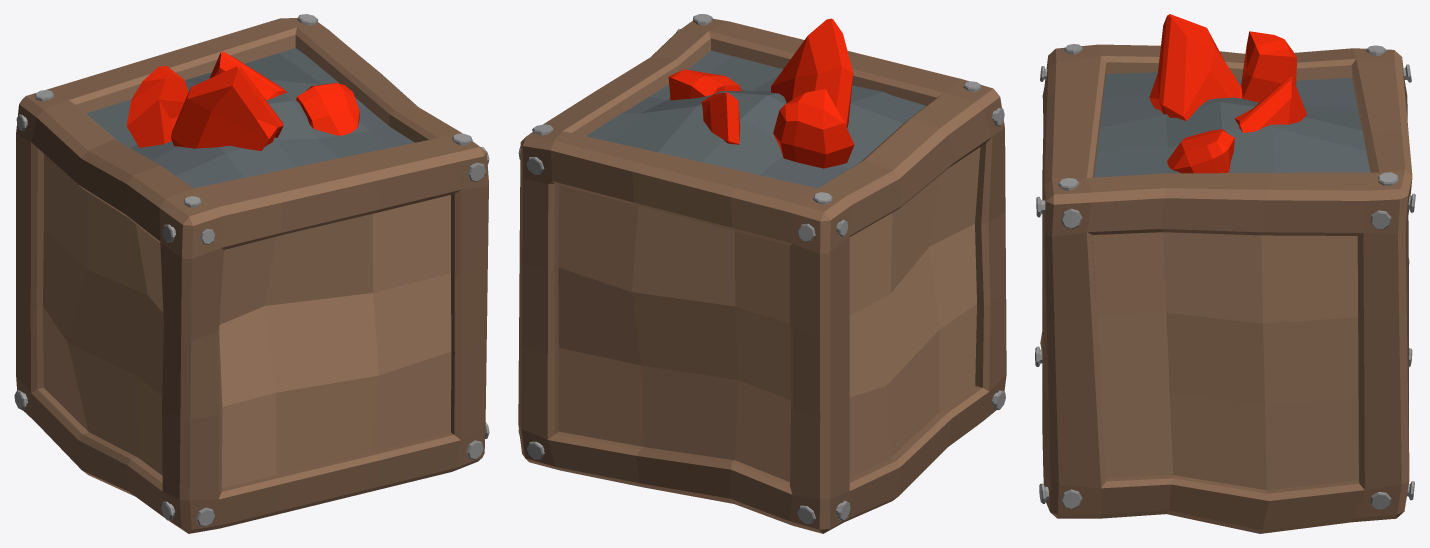
File: Crate_Small_Red.fbx
The picture shows the model from 3 angles, left to right: view 1: azimuth 30°, elevation 25°; view 2: azimuth 150°, elevation 25°; view 3: azimuth 270°, elevation 25°; orthographic projection. The views are drawn at different scales.
Parts seen in each view (by area): view 1: Crate_Small_Red, Red; view 2: Crate_Small_Red, Red; view 3: Crate_Small_Red, Red.
Part boxes in pixels (bbox=[...]): Crate_Small_Red: bbox=[14, 14, 489, 533]; Red: bbox=[127, 52, 359, 150]; Crate_Small_Red: bbox=[518, 14, 1006, 533]; Red: bbox=[668, 18, 854, 168]; Crate_Small_Red: bbox=[1035, 44, 1415, 533]; Red: bbox=[1149, 14, 1306, 173].
Size of the model in its own units: 71.1 by 88 by 71.11.
